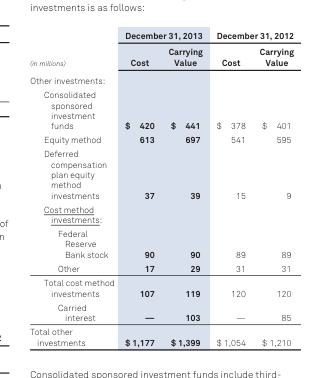table: (29, 29, 293, 347)
table column: (29, 29, 119, 347), (160, 29, 208, 347), (208, 29, 251, 347), (251, 29, 293, 347), (119, 29, 160, 347)
table column header: (29, 29, 293, 71)
table projected row header: (29, 202, 293, 226), (29, 71, 293, 87)
table row: (29, 146, 293, 202), (29, 87, 293, 132), (29, 226, 293, 260), (29, 42, 293, 71), (29, 299, 293, 324), (29, 202, 293, 226), (29, 275, 293, 299), (29, 324, 293, 347), (29, 71, 293, 87), (29, 260, 293, 275), (29, 132, 293, 146), (29, 29, 293, 42)
table spanning cell: (29, 29, 119, 71), (119, 29, 208, 42), (208, 29, 293, 42)
